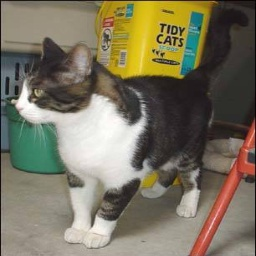cat: (17, 32, 214, 246)
